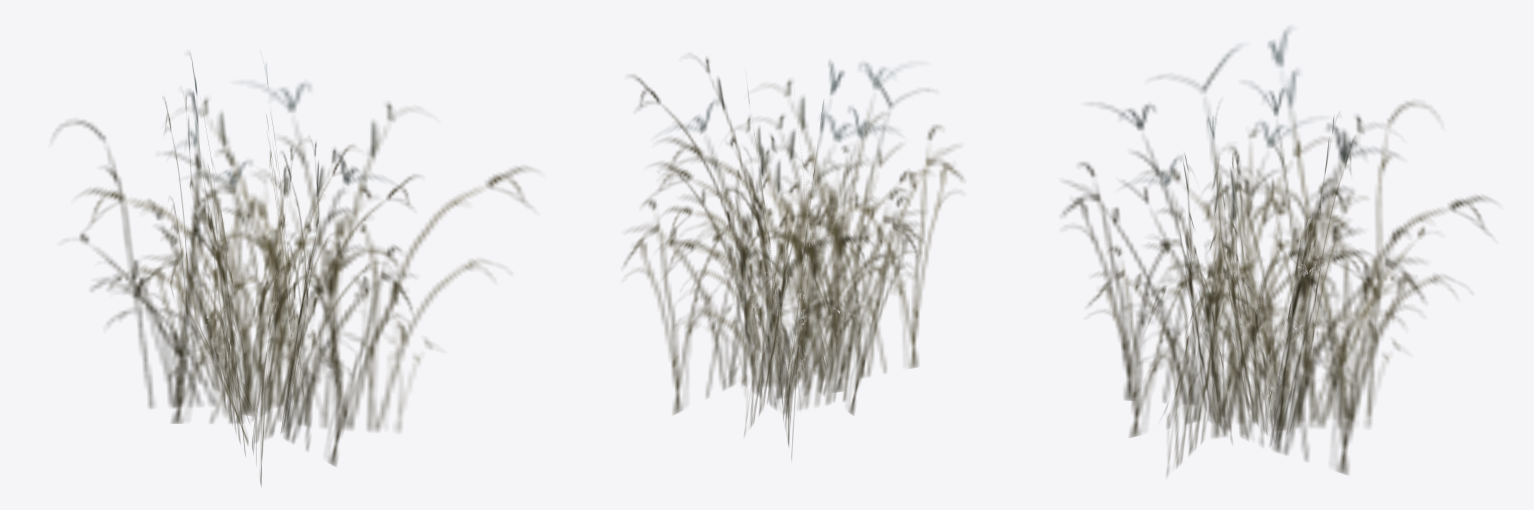
Rendered from ichu_10_nieve.glb.
The picture shows the model from 3 angles, left to right: view 1: azimuth 30°, elevation 25°; view 2: azimuth 150°, elevation 25°; view 3: azimuth 270°, elevation 25°; orthographic projection. The views are drawn at different scales.
Visible parts, largest first — view 1: Ichu; view 2: Ichu; view 3: Ichu.
Part boxes in pixels (x1=…): Ichu: x1=54, y1=53, x2=533, y2=486; Ichu: x1=624, y1=57, x2=962, y2=459; Ichu: x1=1063, y1=26, x2=1492, y2=475.
Size of the model in its own units: 0.4392 by 0.43 by 0.4651.
Materials: 1 (1 with a texture image).
